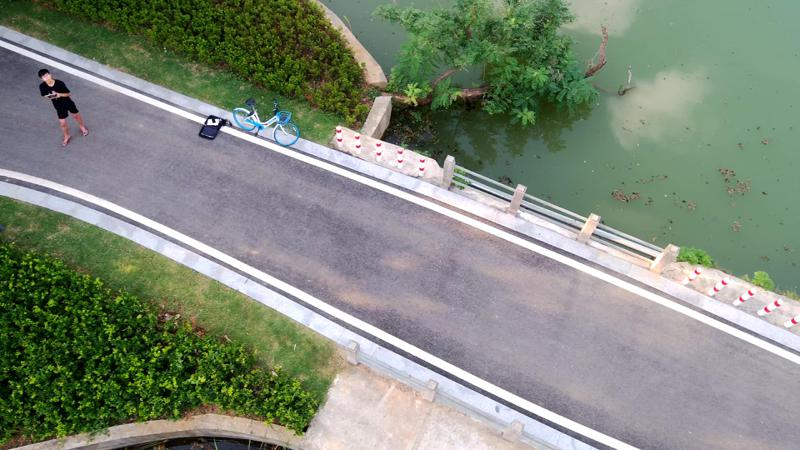passerby: (36, 67, 89, 147)
